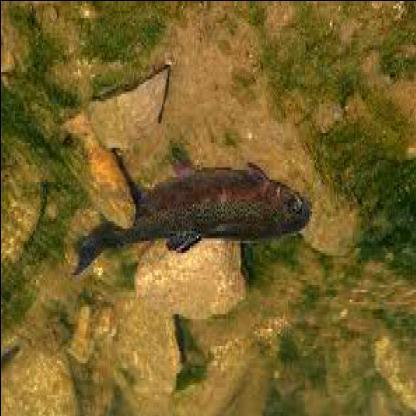fish: (71, 160, 312, 280)
